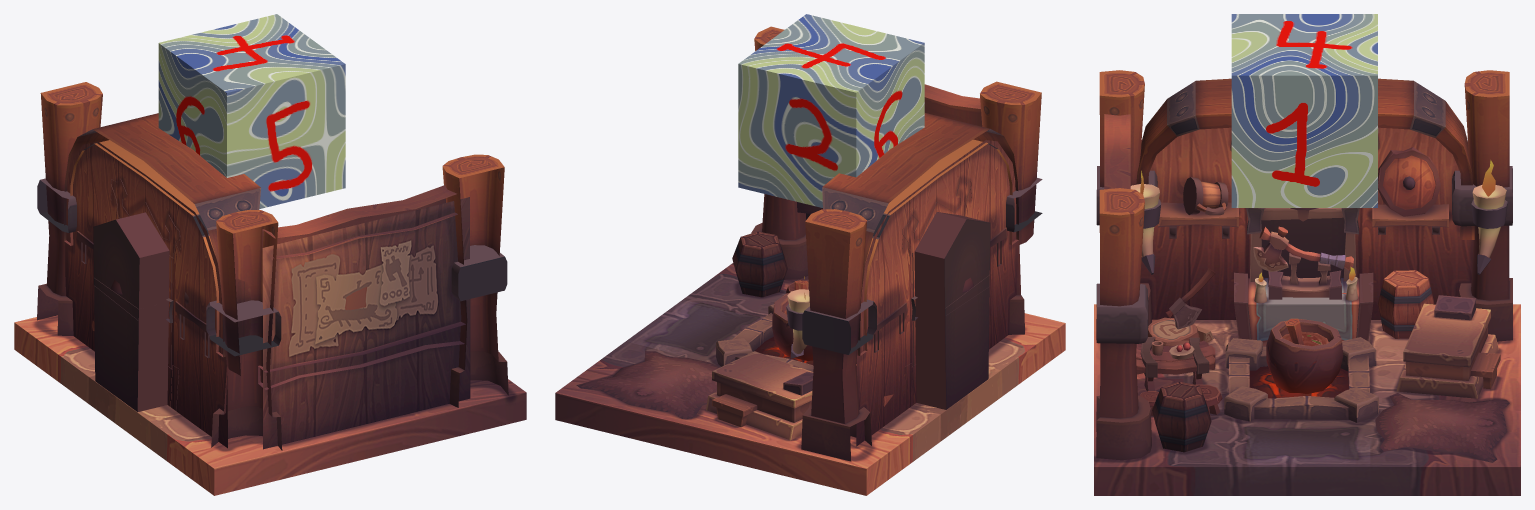
The model's file is viking_room_and_die.glb.
The picture shows the model from 3 angles, left to right: view 1: azimuth 30°, elevation 25°; view 2: azimuth 150°, elevation 25°; view 3: azimuth 270°, elevation 25°; orthographic projection. The views are drawn at different scales.
Visible parts, largest first — view 1: mesh_all1_Texture1_0, Object_2; view 2: mesh_all1_Texture1_0, Object_2; view 3: mesh_all1_Texture1_0, Object_2.
Part boxes in pixels (x1,y1,x2,y2): mesh_all1_Texture1_0: (14,82,526,495); Object_2: (158,14,345,208); mesh_all1_Texture1_0: (555,26,1065,495); Object_2: (738,14,924,207); mesh_all1_Texture1_0: (1094,70,1520,495); Object_2: (1231,14,1377,207).
Size of the model in its own units: 1.33 by 1.36 by 1.46.
2 materials, 2 textured.
